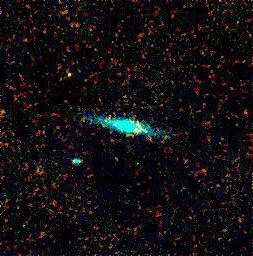star: (122, 118, 152, 148)
